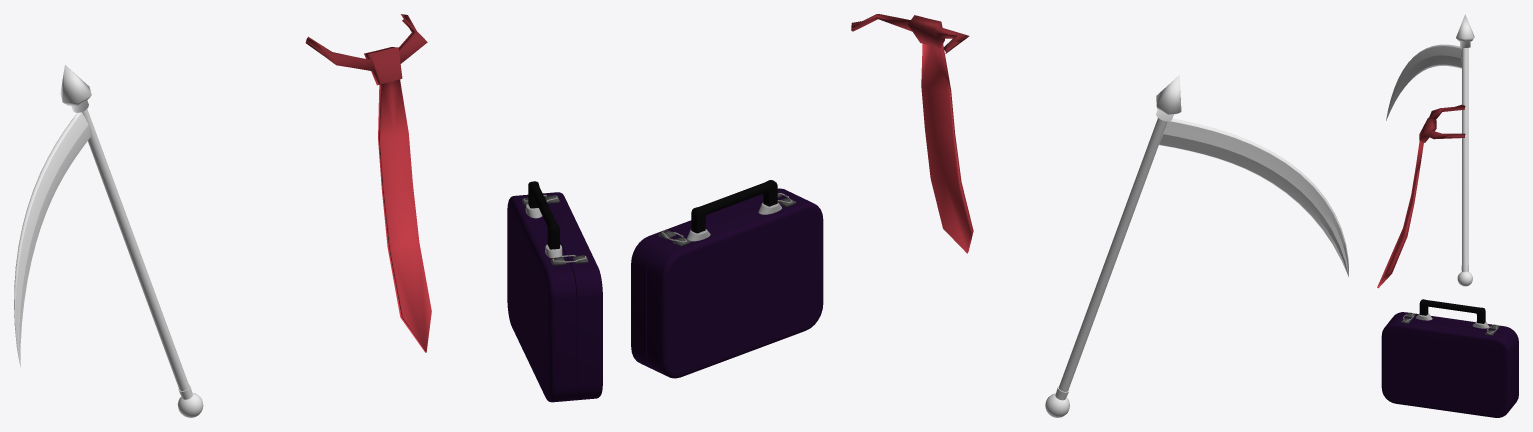
The model's file is parca-objs.fbx.
The picture shows the model from 3 angles, left to right: view 1: azimuth 30°, elevation 25°; view 2: azimuth 150°, elevation 25°; view 3: azimuth 270°, elevation 25°; orthographic projection. The views are drawn at different scales.
Visible parts, largest first — view 1: Cube.003, Cubo.001, Curva NURBS, Cilindro.001, Cilindro, Plano, Esfera; view 2: Cube.003, Cubo.001, Curva NURBS, Cilindro.001, Plano, Cilindro; view 3: Cube.003, Cubo.001, Curva NURBS, Cilindro.001, Plano, Cilindro, Esfera, Cubo.003, Cubo.
Boxes of the visible parts, box(x1,y1,x2,y2) form: Cube.003: box(507, 192, 602, 402); Cubo.001: box(305, 14, 431, 352); Curva NURBS: box(14, 112, 90, 367); Cilindro.001: box(82, 109, 189, 390); Cilindro: box(60, 65, 91, 112); Plano: box(528, 181, 559, 249); Esfera: box(177, 384, 203, 417); Cube.003: box(631, 188, 823, 378); Cubo.001: box(851, 14, 973, 253); Curva NURBS: box(1159, 118, 1348, 276); Cilindro.001: box(1058, 118, 1167, 391); Plano: box(691, 180, 777, 233); Cilindro: box(1156, 75, 1181, 121); Cube.003: box(1381, 312, 1518, 417); Cubo.001: box(1377, 104, 1465, 288); Curva NURBS: box(1386, 44, 1461, 120); Cilindro.001: box(1462, 47, 1468, 265); Plano: box(1419, 299, 1485, 323); Cilindro: box(1456, 14, 1474, 47); Esfera: box(1457, 265, 1472, 286); Cubo.003: box(1401, 312, 1499, 335); Cubo: box(1415, 313, 1489, 328).
Bounding box in the file's own units: 1270 × 769 × 398.
Materials: 6 (1 with a texture image).
